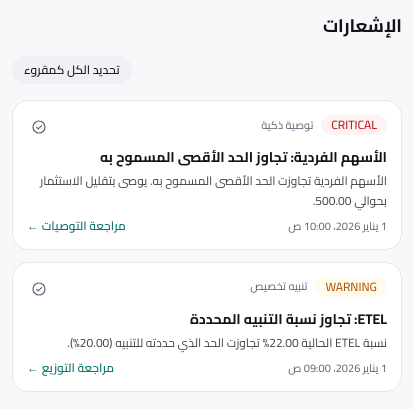
Test case: NotificationsPage › marks a single notification as read and updates its display without affecting others
The width and height of the screenshot is (414, 409).
Check: the text "الأسهم الفردية: تجاوز الحد الأقصى المسموح به" is shown, box [100,144,387,170]
Click the button named "تحديد كمقروء" in the row of "توصية ذكية" at x=39, y=127, box [27,115,51,139]
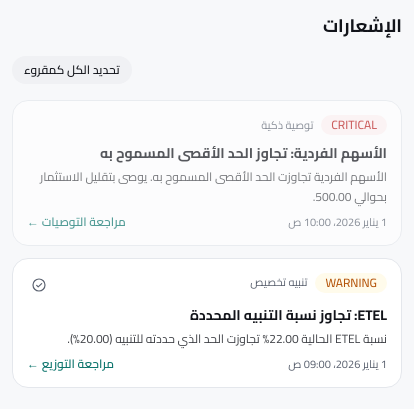
Check: the number of buttons named "تحديد كمقروء" is 1, box [27,272,51,296]
